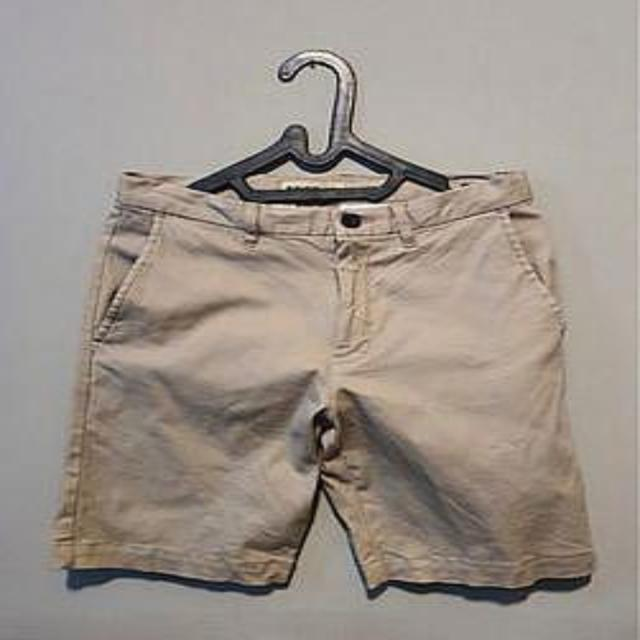SHORT: (52, 145, 607, 602)
